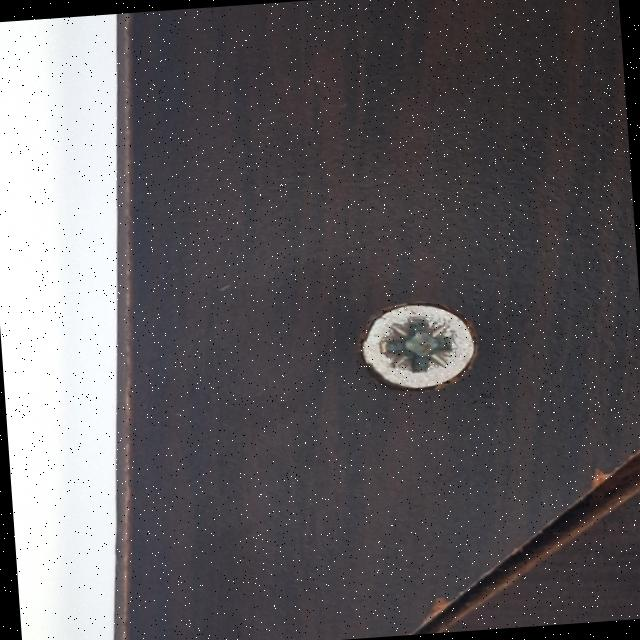Pozidriv: (338, 295, 482, 405)
